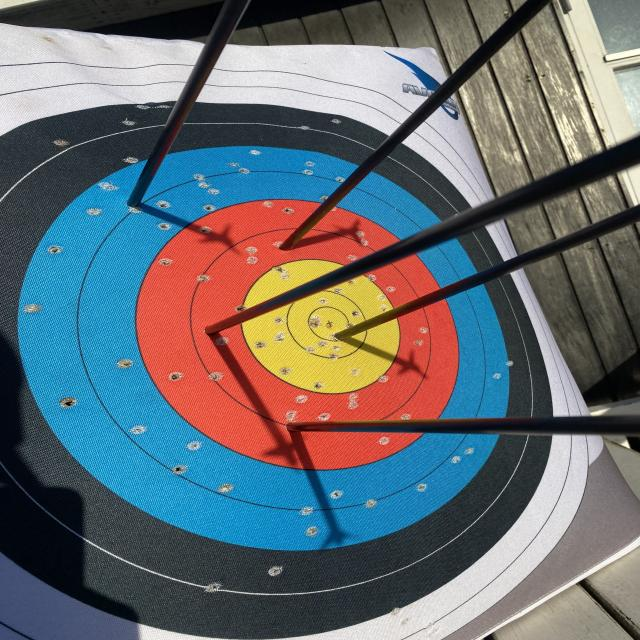Arrow_Blue: (118, 186, 165, 223)
Arrow_Red: (264, 412, 312, 448), (272, 232, 321, 262), (187, 317, 237, 343)
Arrow_Yellow: (325, 326, 356, 352)
